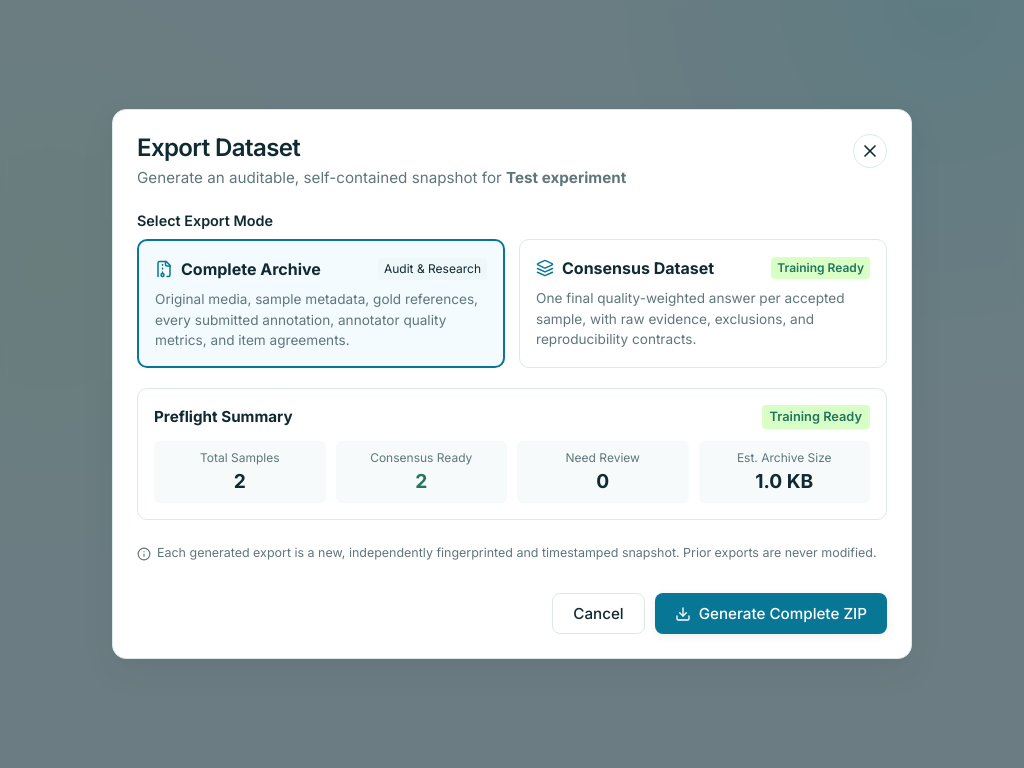
Test: ExportDatasetModal interactions › refreshes the real preflight view after a stale export response
Expected: the text "Preflight Summary" is shown, [154,406,293,428]
Click the button "Generate Complete ZIP".
click(771, 614)  # box [655,593,887,634]
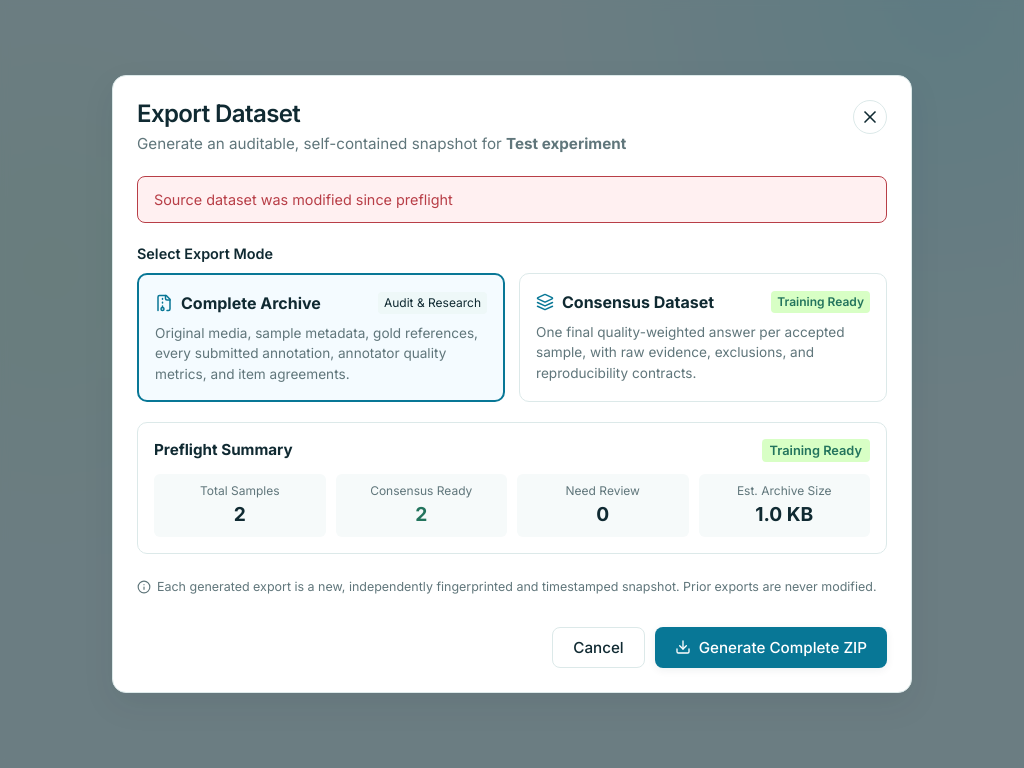
Now the text "Source dataset was modified since preflight" is shown, box [137,176,887,223]
